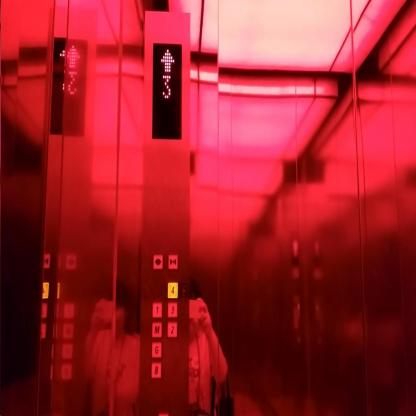1: (150, 300, 163, 320)
2: (166, 320, 178, 338)
3: (166, 301, 178, 318)
4: (167, 281, 178, 299)
B: (150, 360, 162, 379)
G: (150, 340, 162, 359)
M: (150, 320, 162, 338)
close: (167, 252, 178, 270)
led: (152, 41, 182, 142)
open: (152, 252, 163, 271)
unknown: (63, 301, 75, 319), (65, 252, 76, 271), (61, 341, 72, 360), (62, 321, 74, 338), (61, 362, 72, 380)
